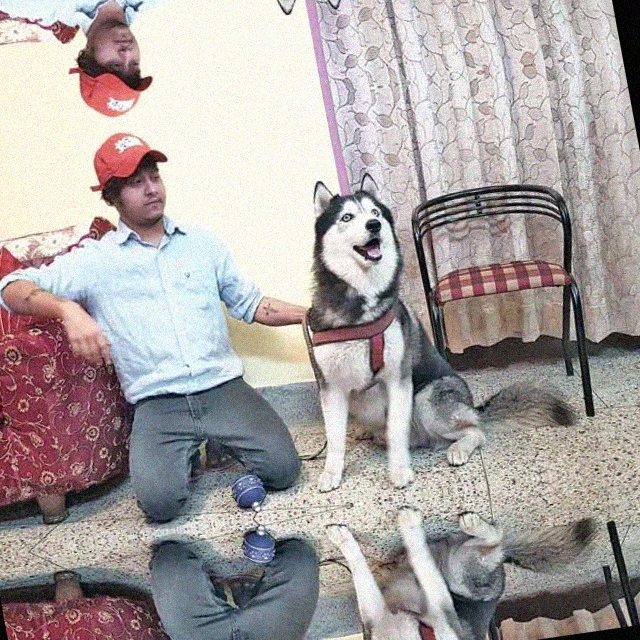dog: (271, 153, 497, 495), (334, 497, 529, 640), (227, 0, 411, 30)
person: (0, 110, 314, 527), (0, 0, 242, 137), (71, 529, 347, 640)
